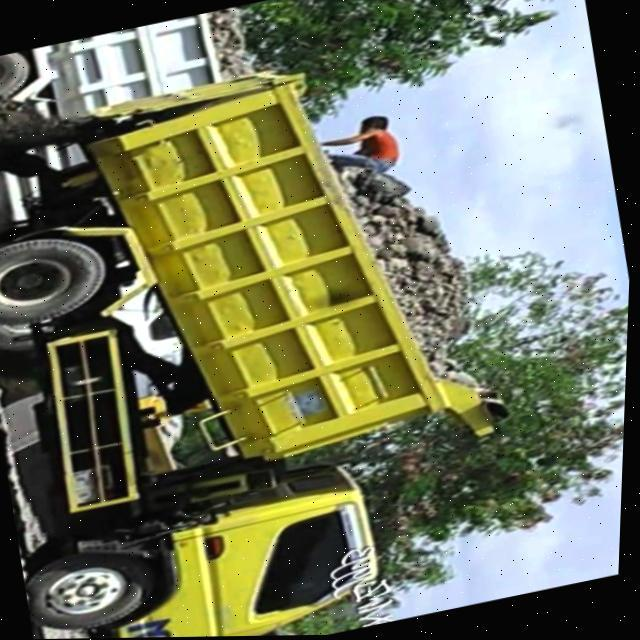truck: (0, 33, 555, 640)
